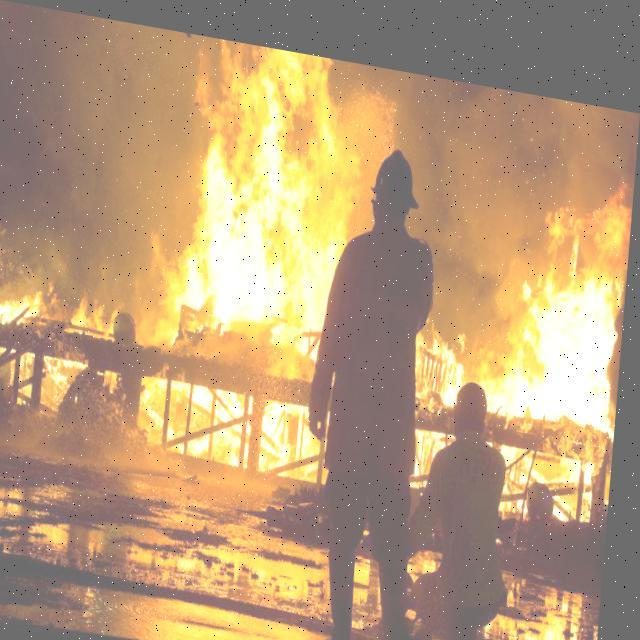Fire: (0, 8, 639, 546)
